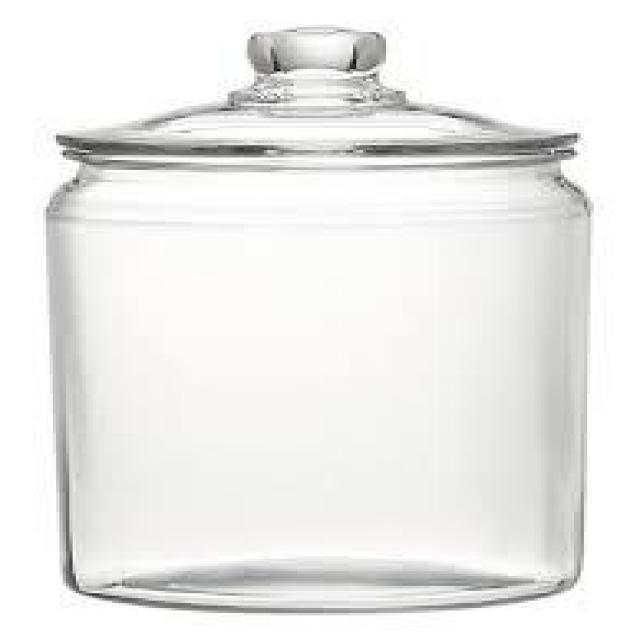glass: (40, 22, 598, 616)
